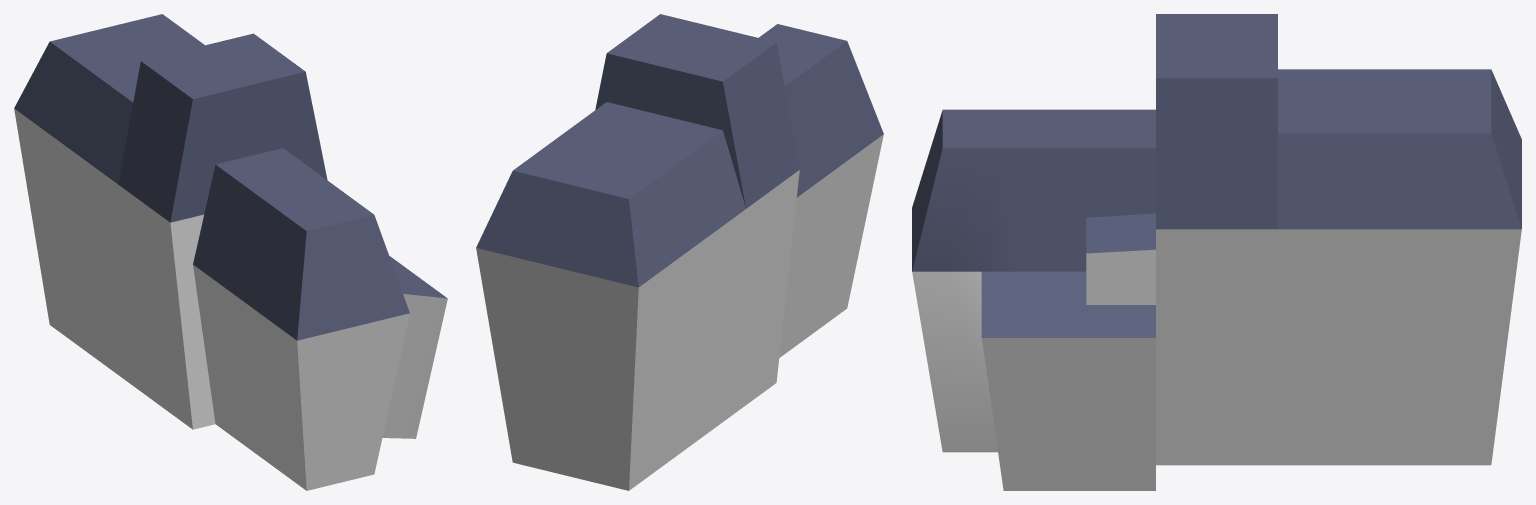
File: paris_building_scaled_med_03.fbx
3 renders of one model, left to right at view 1: azimuth 30°, elevation 25°; view 2: azimuth 150°, elevation 25°; view 3: azimuth 270°, elevation 25°, orthographic. The views are drawn at different scales.
Parts seen in each view (by area): view 1: Cube-col; view 2: Cube-col; view 3: Cube-col.
Part boxes in pixels (x1=…): Cube-col: x1=14, y1=14, x2=447, y2=490; Cube-col: x1=476, y1=14, x2=883, y2=490; Cube-col: x1=912, y1=14, x2=1521, y2=490.
Bounding box in the file's own units: 900 × 1400 × 2000.
